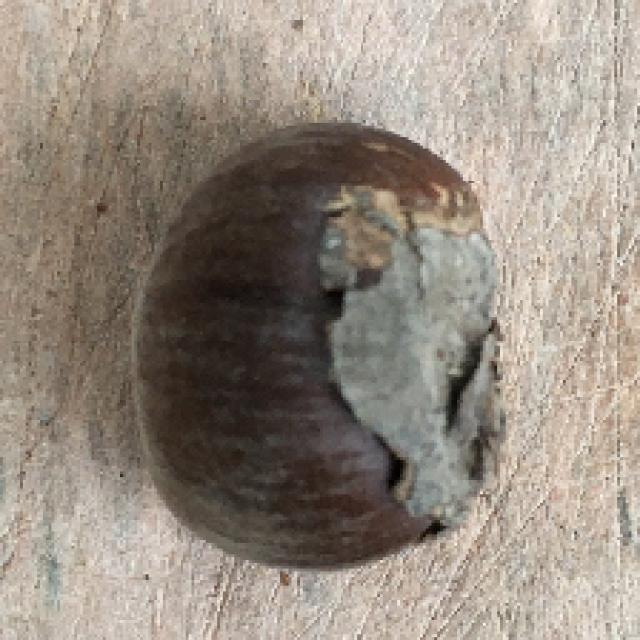damagedHazelnut: (120, 113, 512, 571)
